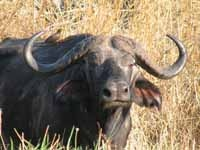buffalo: (1, 30, 189, 149)
